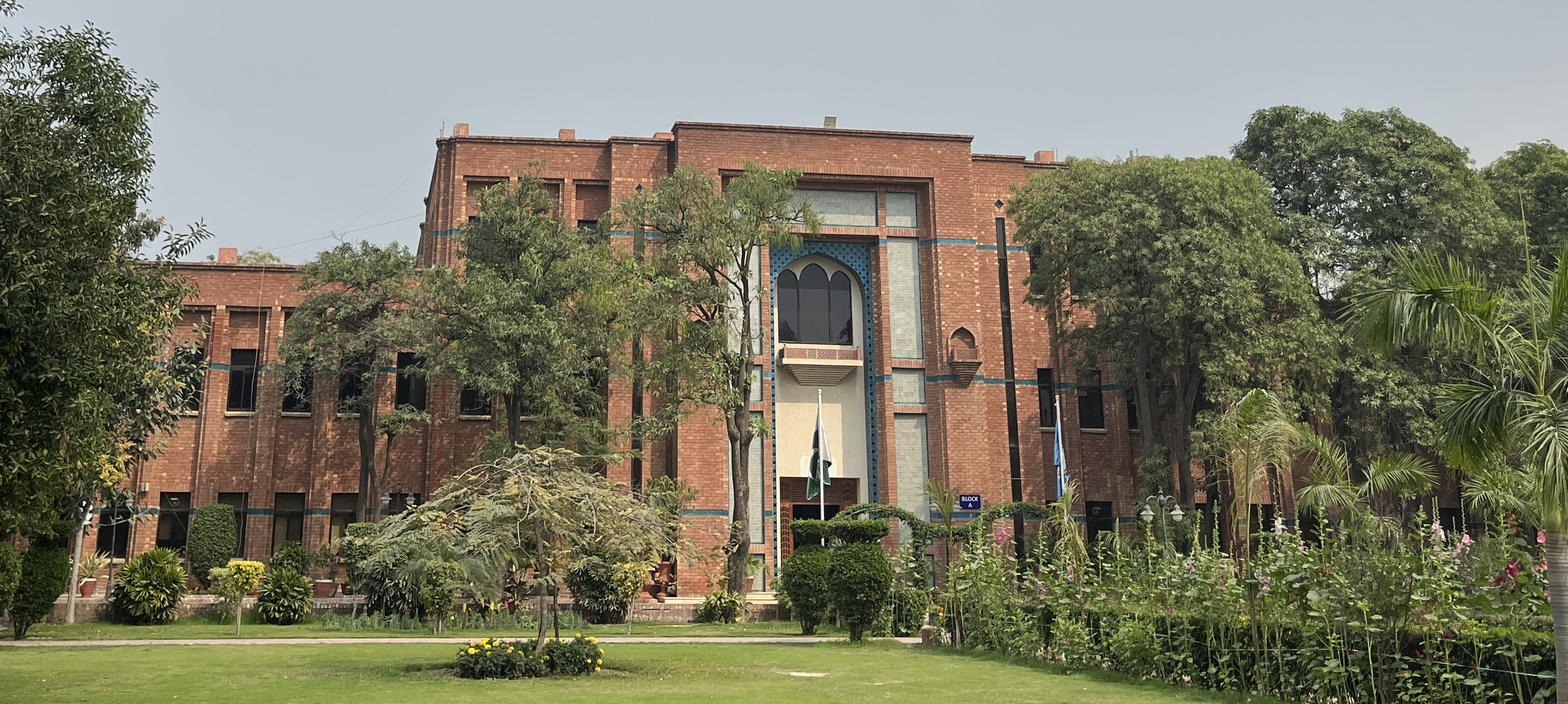Block A: (14, 95, 1558, 599)
